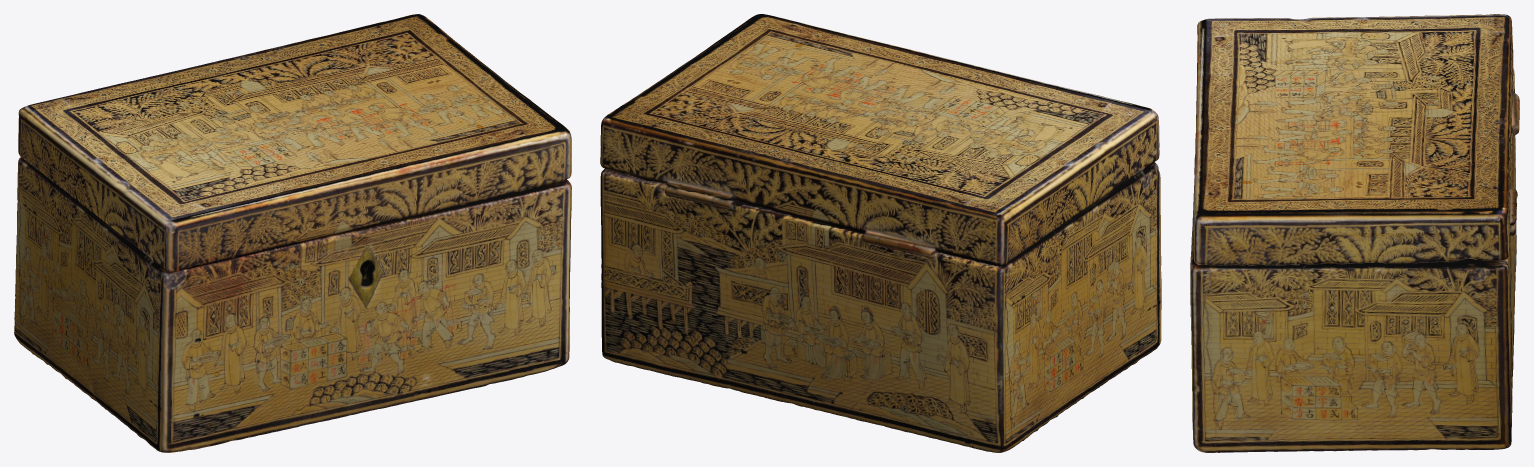
Rendered from 19世纪黑漆描金制茶贸易图茶叶罐.glb.
3 views of the same model, side by side, from view 1: azimuth 30°, elevation 25°; view 2: azimuth 150°, elevation 25°; view 3: azimuth 270°, elevation 25° (orthographic).
Visible parts, largest first — view 1: default; view 2: default; view 3: default.
Part boxes in pixels (x1,y1,x2,y2): default: (14, 14, 571, 452); default: (600, 14, 1161, 452); default: (1190, 14, 1519, 452).
Size of the model in its own units: 1597 by 906 by 1100.
Materials: 1 (1 with a texture image).
